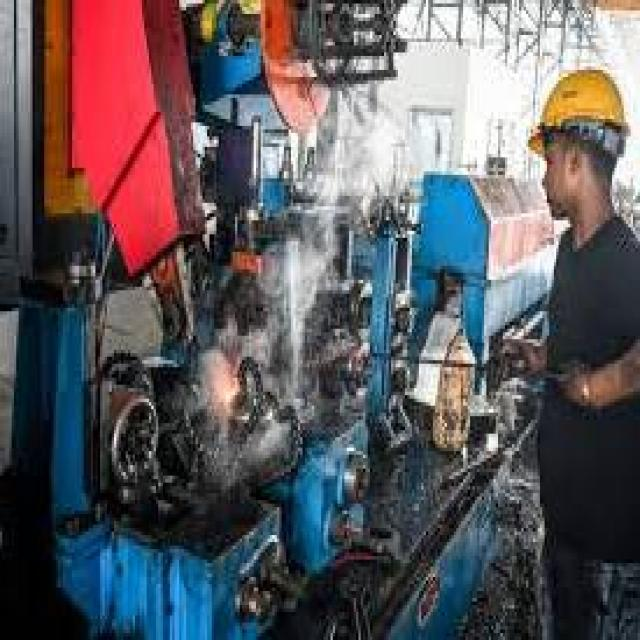Safety-Helmet: (521, 52, 638, 164)
